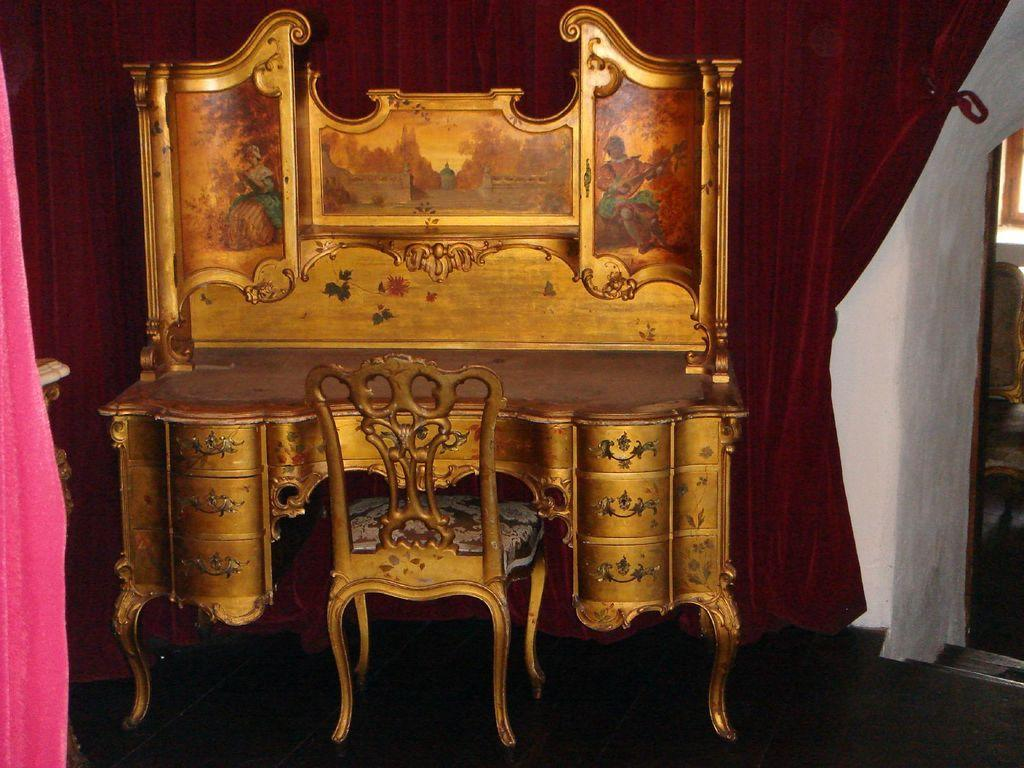Chair: (307, 352, 556, 749)
